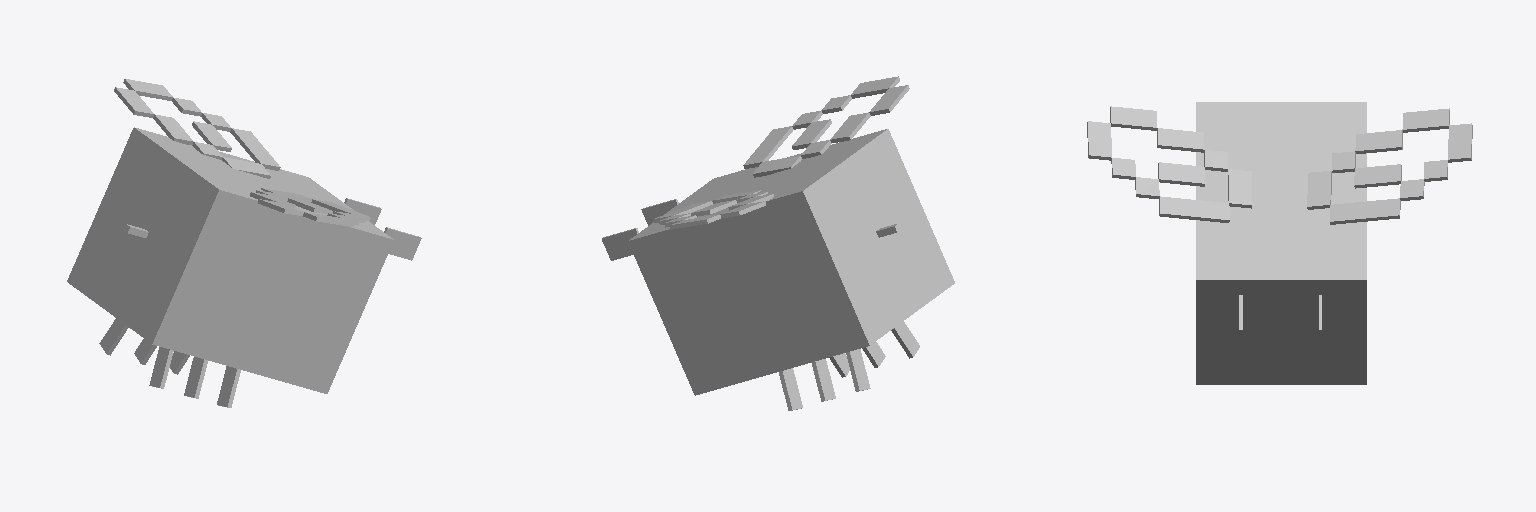
File: Bee_ (132).obj
3 views of the same model, side by side, from view 1: azimuth 30°, elevation 25°; view 2: azimuth 150°, elevation 25°; view 3: azimuth 270°, elevation 25° (orthographic).
Parts seen in each view (by area): view 1: b_Bee_MAT_0, r_Bee_MAT_0, l_Bee_MAT_0; view 2: b_Bee_MAT_0, l_Bee_MAT_0, r_Bee_MAT_0; view 3: b_Bee_MAT_0, l_Bee_MAT_0, r_Bee_MAT_0.
Part boxes in pixels (x1,y1,x2,y2): b_Bee_MAT_0: (67,127,421,407); r_Bee_MAT_0: (114,79,280,178); l_Bee_MAT_0: (250,188,370,226); b_Bee_MAT_0: (602,129,954,410); l_Bee_MAT_0: (743,76,909,177); r_Bee_MAT_0: (654,190,773,229); b_Bee_MAT_0: (1196,102,1366,384); l_Bee_MAT_0: (1087,106,1252,222); r_Bee_MAT_0: (1307,108,1472,224).
Bounding box in the file's own units: 0.3084 × 0.2483 × 0.354.